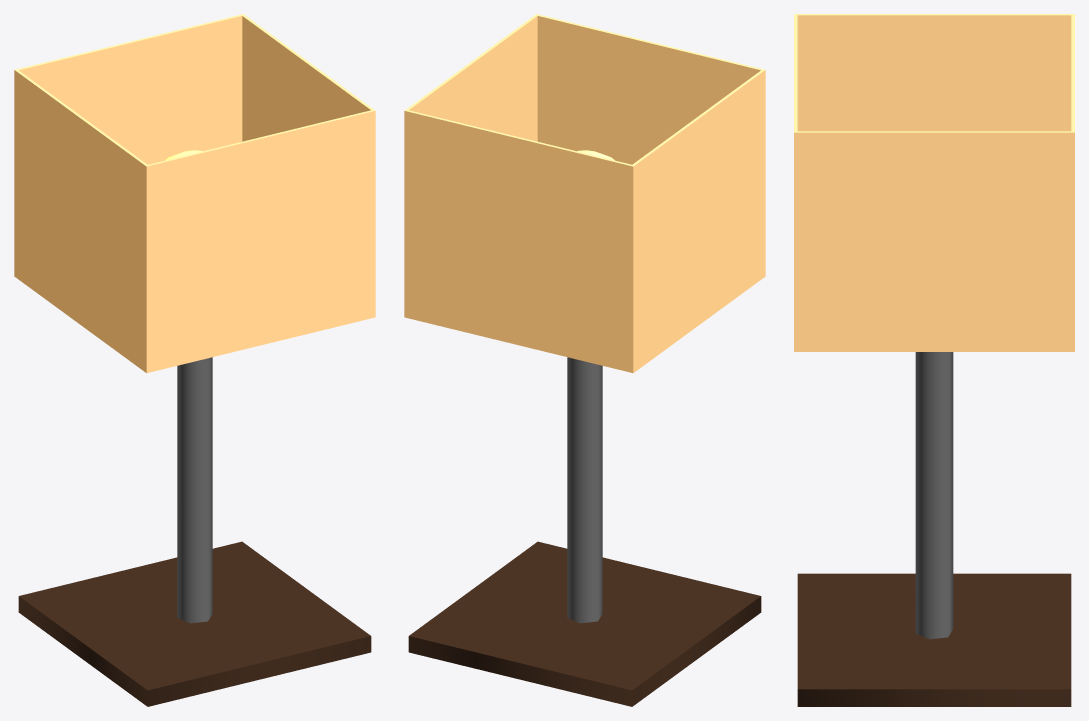
The model's file is Table_Lamp_ShortSquareBase_SquareShade.fbx.
3 views of the same model, side by side, from view 1: azimuth 30°, elevation 25°; view 2: azimuth 150°, elevation 25°; view 3: azimuth 270°, elevation 25° (orthographic). The views are drawn at different scales.
Parts seen in each view (by area): view 1: Table_Lamp_ShortSquareBase_SquareShade; view 2: Table_Lamp_ShortSquareBase_SquareShade; view 3: Table_Lamp_ShortSquareBase_SquareShade.
Boxes of the visible parts, left/top/right/bottom form: Table_Lamp_ShortSquareBase_SquareShade: left=14, top=14, right=375, bottom=706; Table_Lamp_ShortSquareBase_SquareShade: left=404, top=14, right=765, bottom=706; Table_Lamp_ShortSquareBase_SquareShade: left=794, top=14, right=1074, bottom=706.
Size of the model in its own units: 21.74 by 49.2 by 21.74.
